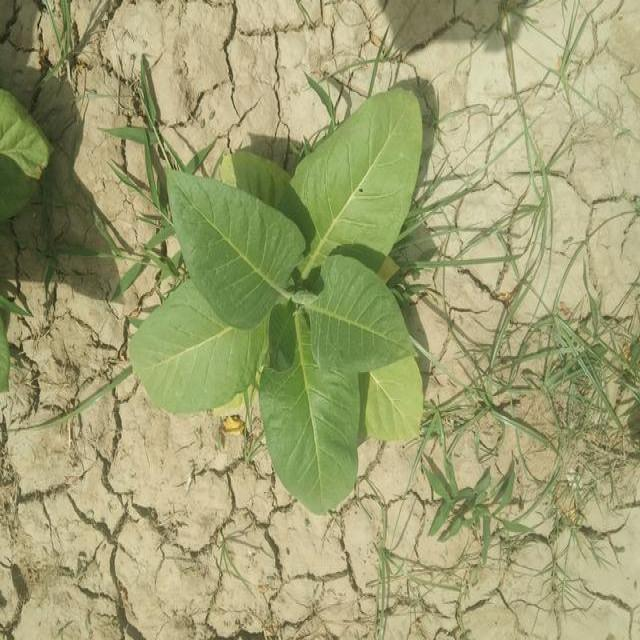crop: (131, 89, 425, 523)
